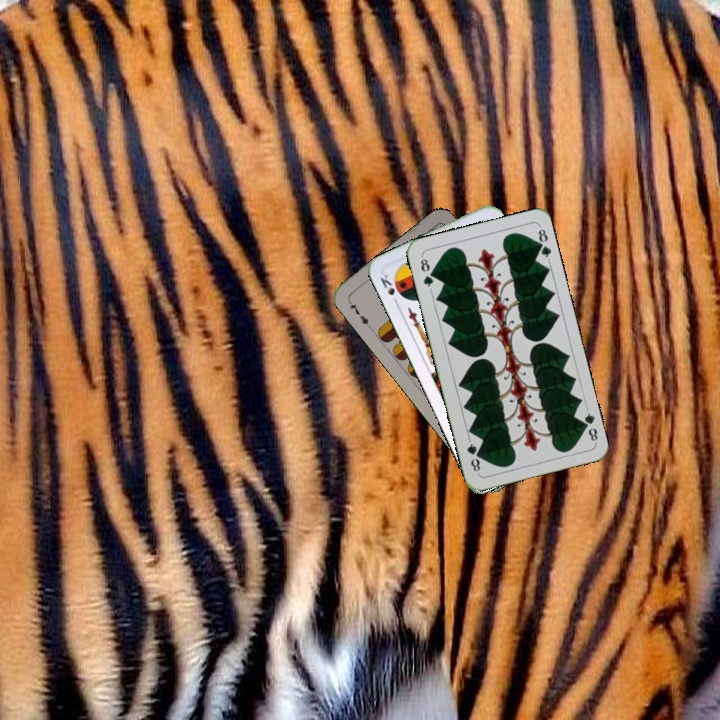E7: (344, 297, 374, 331)
G8: (577, 405, 601, 444), (416, 252, 436, 292)
SK: (376, 270, 401, 308)
